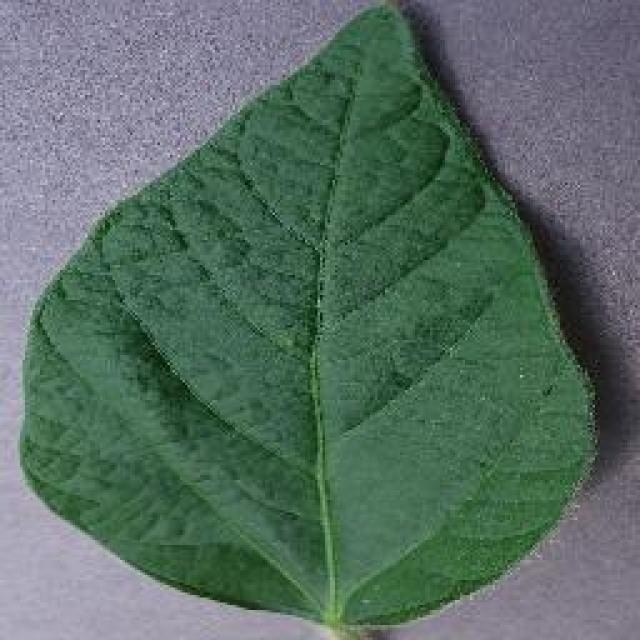Soy_healthy: (56, 96, 582, 586)
